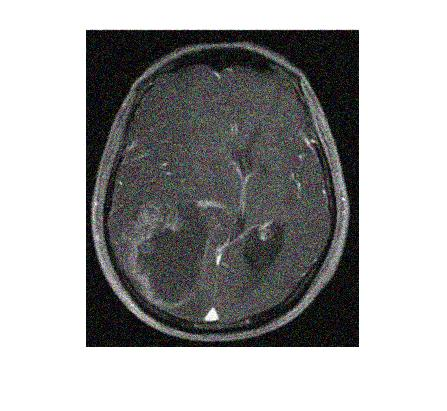Brain_Cancer: (130, 201, 209, 306)
